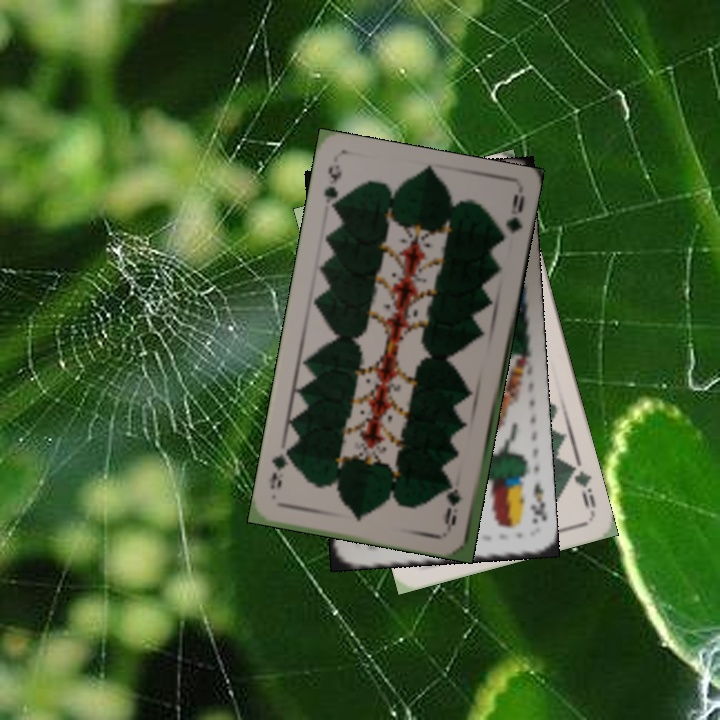EK: (526, 478, 548, 526)
G9: (564, 457, 599, 515), (320, 160, 345, 216), (444, 484, 464, 532)
